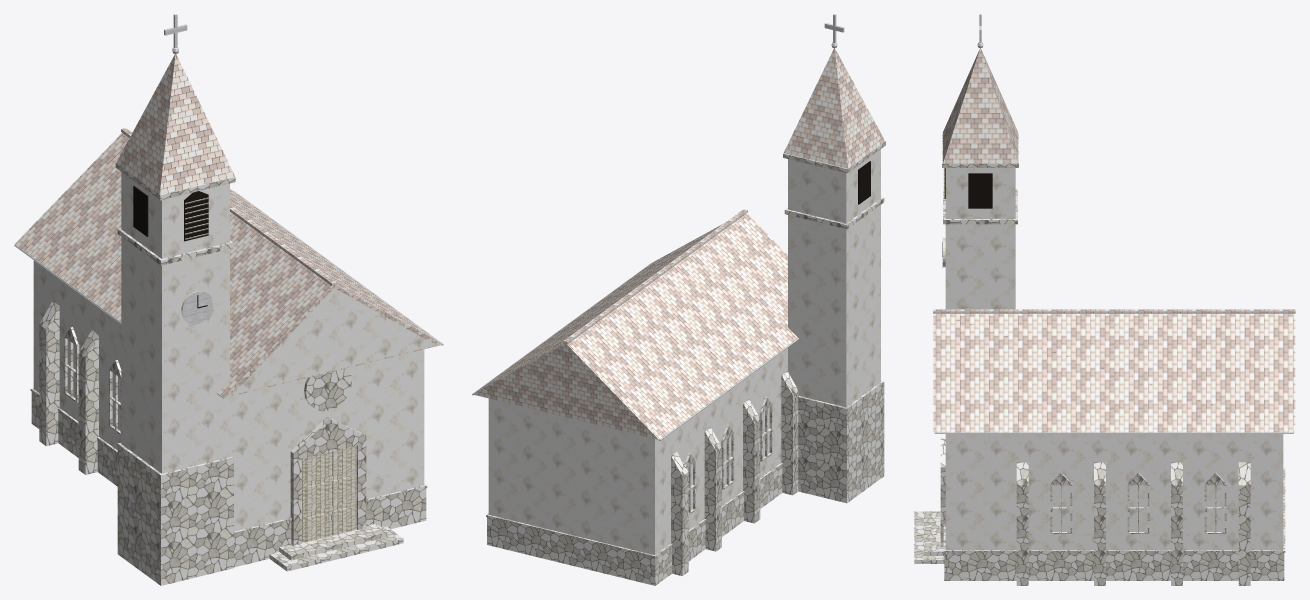
The model's file is chiesa.obj.
3 renders of one model, left to right at view 1: azimuth 30°, elevation 25°; view 2: azimuth 150°, elevation 25°; view 3: azimuth 270°, elevation 25°, orthographic. The views are drawn at different scales.
Parts seen in each view (by area): view 1: intonaco_000, pietra_005, tegole_002, tegole_017, pietra_001, legno_007, legno_006, liscio_012, pietra_010, pietra_009, tegole_003, pietra_028 (+3 smaller); view 2: intonaco_000, tegole_002, pietra_005, pietra_001, tegole_017, tegole_003, pietra_024, pietra_020, metallo_004; view 3: intonaco_000, tegole_002, pietra_001, pietra_005, tegole_017, tegole_003, liscio_012, pietra_010, metallo_004, pietra_009, pietra_030, pietra_022 (+1 smaller).
Part boxes in pixels (x1,y1,x2,y2): intonaco_000: [33, 172, 435, 531]; pietra_005: [39, 162, 366, 585]; tegole_002: [15, 133, 442, 397]; tegole_017: [116, 54, 234, 194]; pietra_001: [30, 388, 427, 567]; legno_007: [305, 447, 352, 541]; legno_006: [302, 445, 356, 542]; liscio_012: [133, 186, 208, 241]; pietra_010: [279, 523, 388, 560]; pietra_009: [269, 526, 403, 571]; tegole_003: [121, 128, 336, 285]; pietra_028: [64, 327, 79, 402]; intonaco_000: [488, 149, 880, 555]; tegole_002: [472, 213, 797, 439]; pietra_005: [671, 141, 885, 575]; pietra_001: [486, 462, 782, 585]; tegole_017: [784, 48, 885, 168]; tegole_003: [563, 209, 747, 344]; pietra_024: [721, 425, 734, 489]; pietra_020: [759, 397, 772, 461]; metallo_004: [472, 263, 798, 440]; intonaco_000: [945, 168, 1283, 550]; tegole_002: [933, 313, 1295, 432]; pietra_001: [943, 468, 1285, 580]; pietra_005: [940, 132, 1250, 585]; tegole_017: [943, 48, 1017, 163]; tegole_003: [933, 309, 1295, 313]; liscio_012: [944, 168, 992, 208]; pietra_010: [924, 511, 944, 555]; metallo_004: [934, 432, 1293, 433]; pietra_009: [914, 511, 944, 563]; pietra_030: [1204, 472, 1226, 533]; pietra_022: [1050, 472, 1072, 533].
Size of the model in its own units: 11.51 by 21.5 by 15.82.
Materials: 19 (16 with a texture image).
